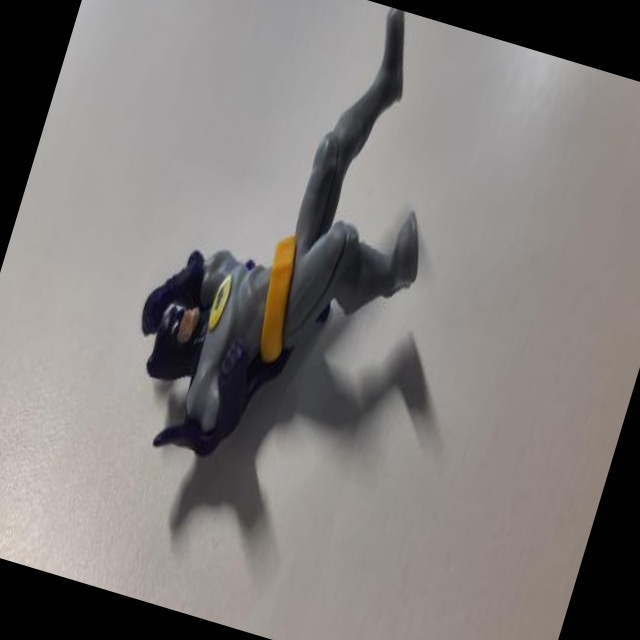Batman: (87, 0, 486, 550)
